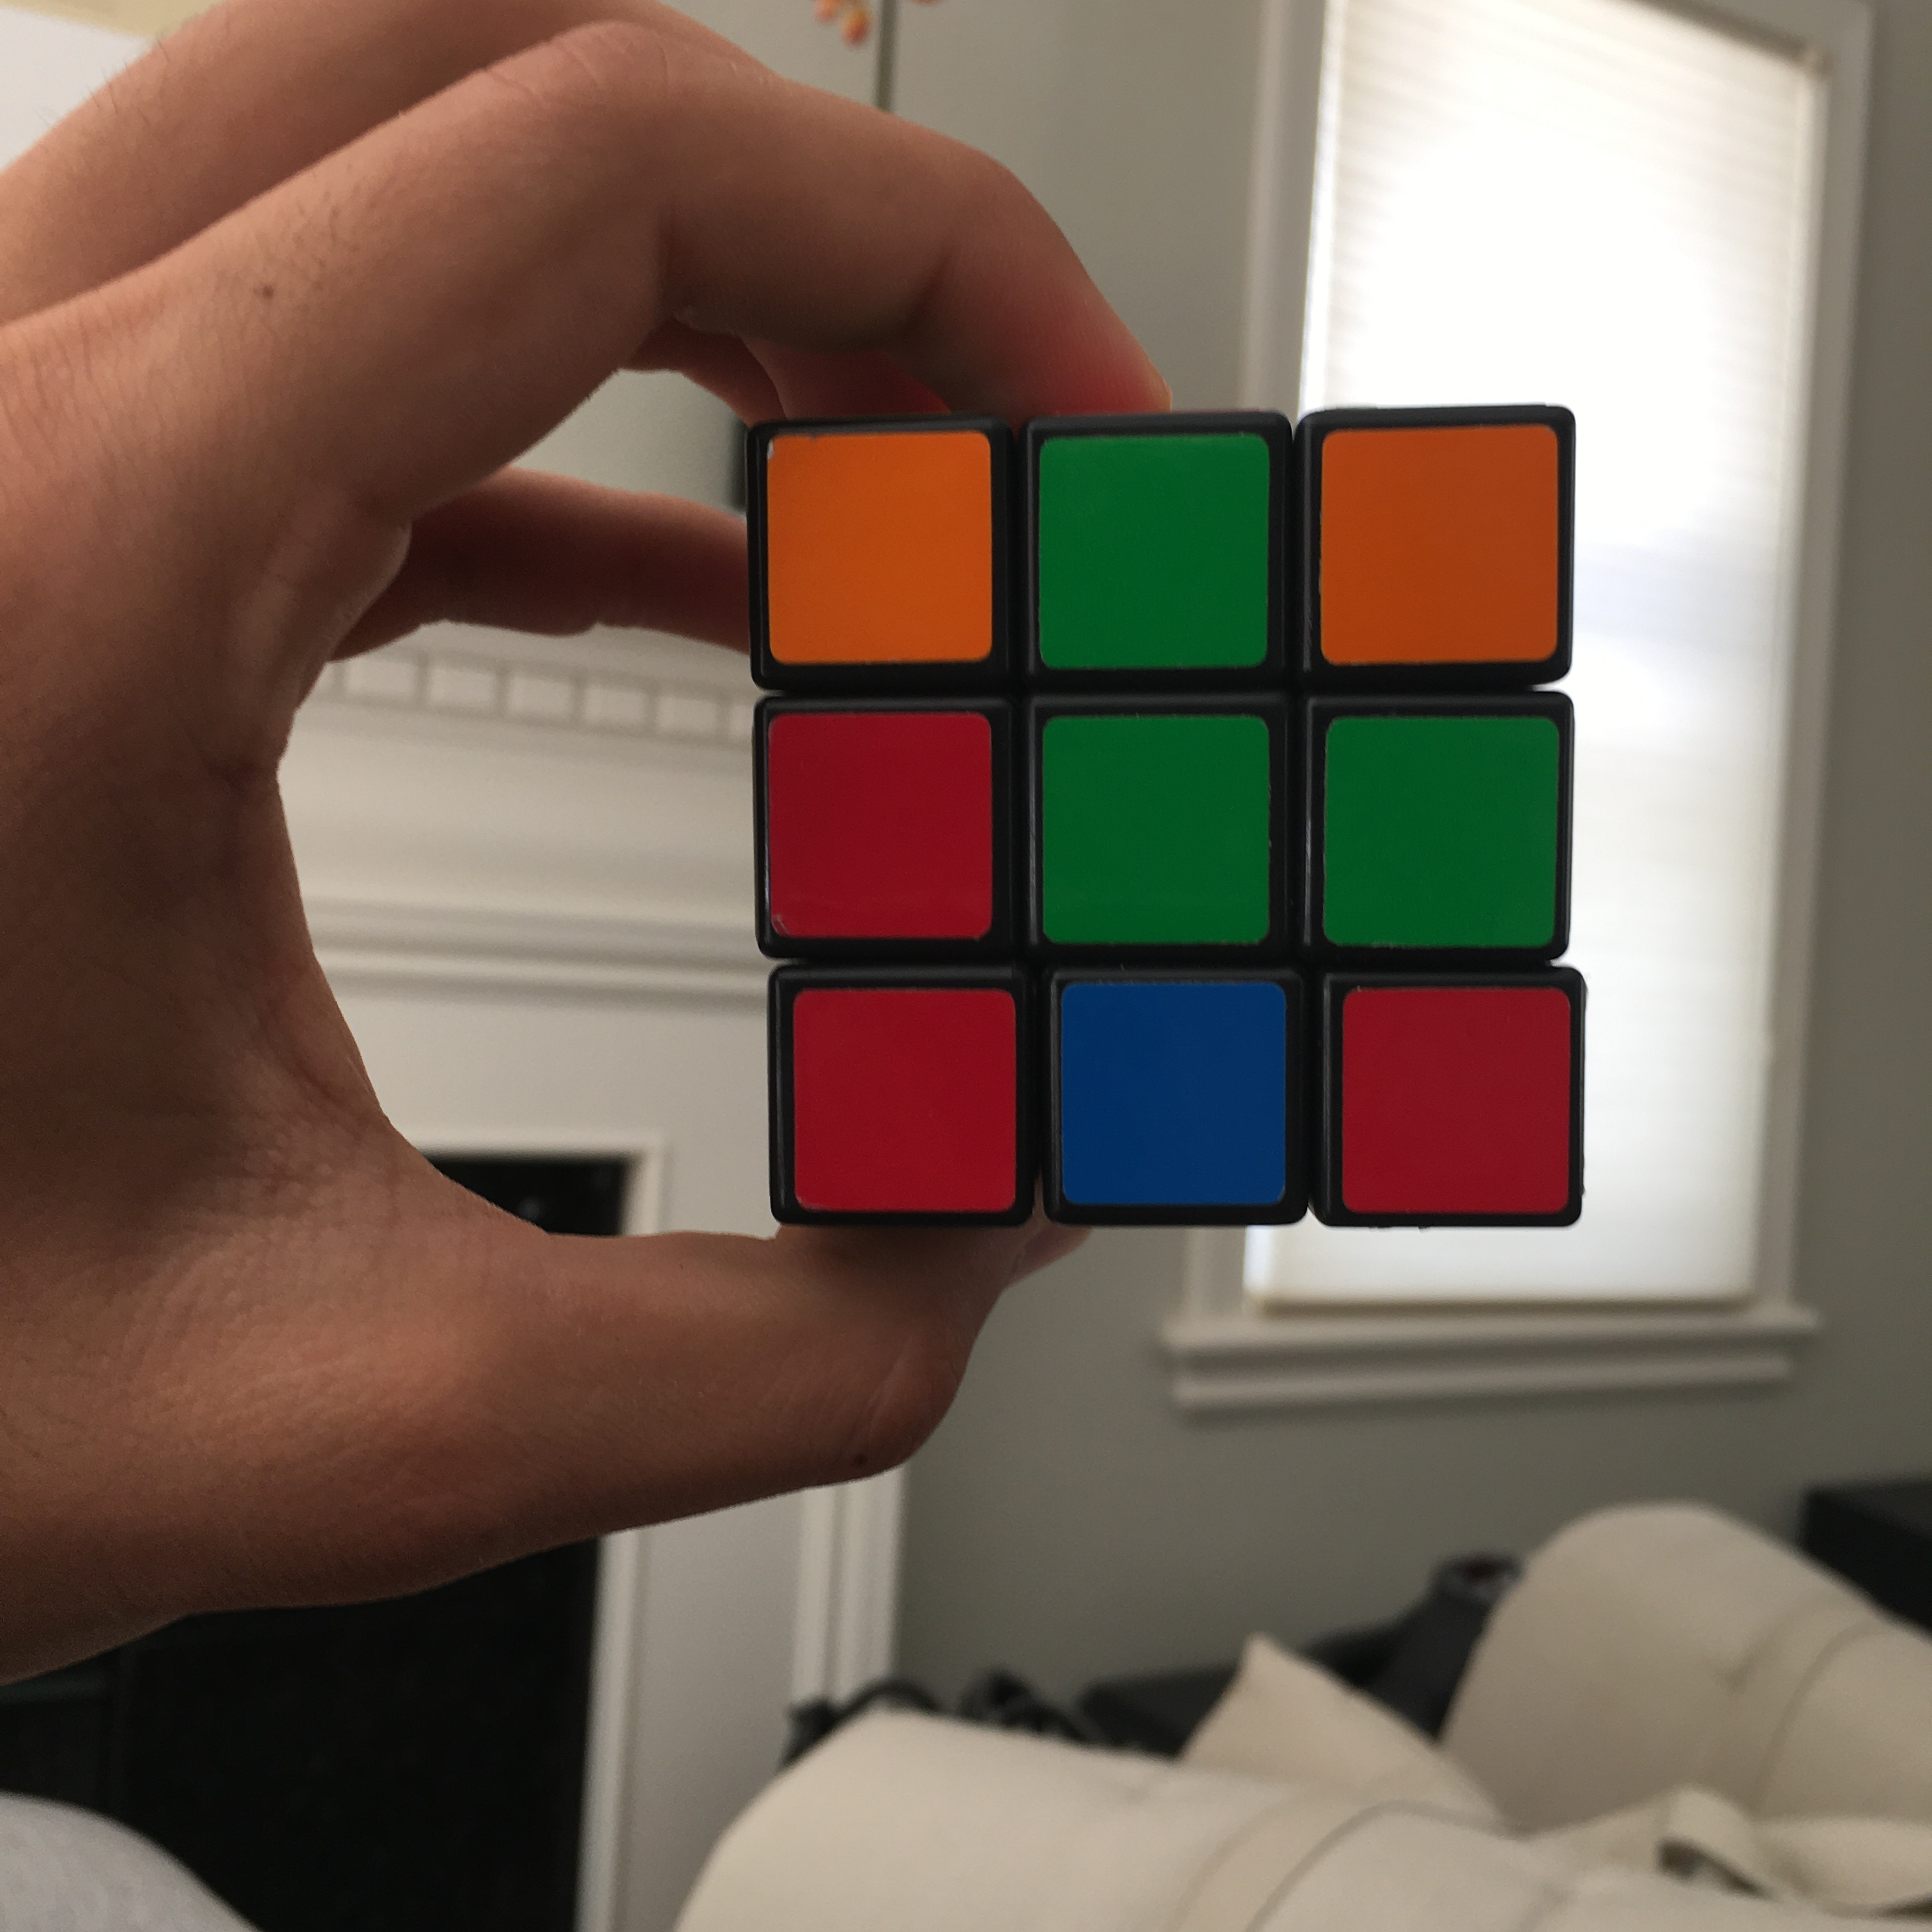face: (749, 415, 1586, 1230)
